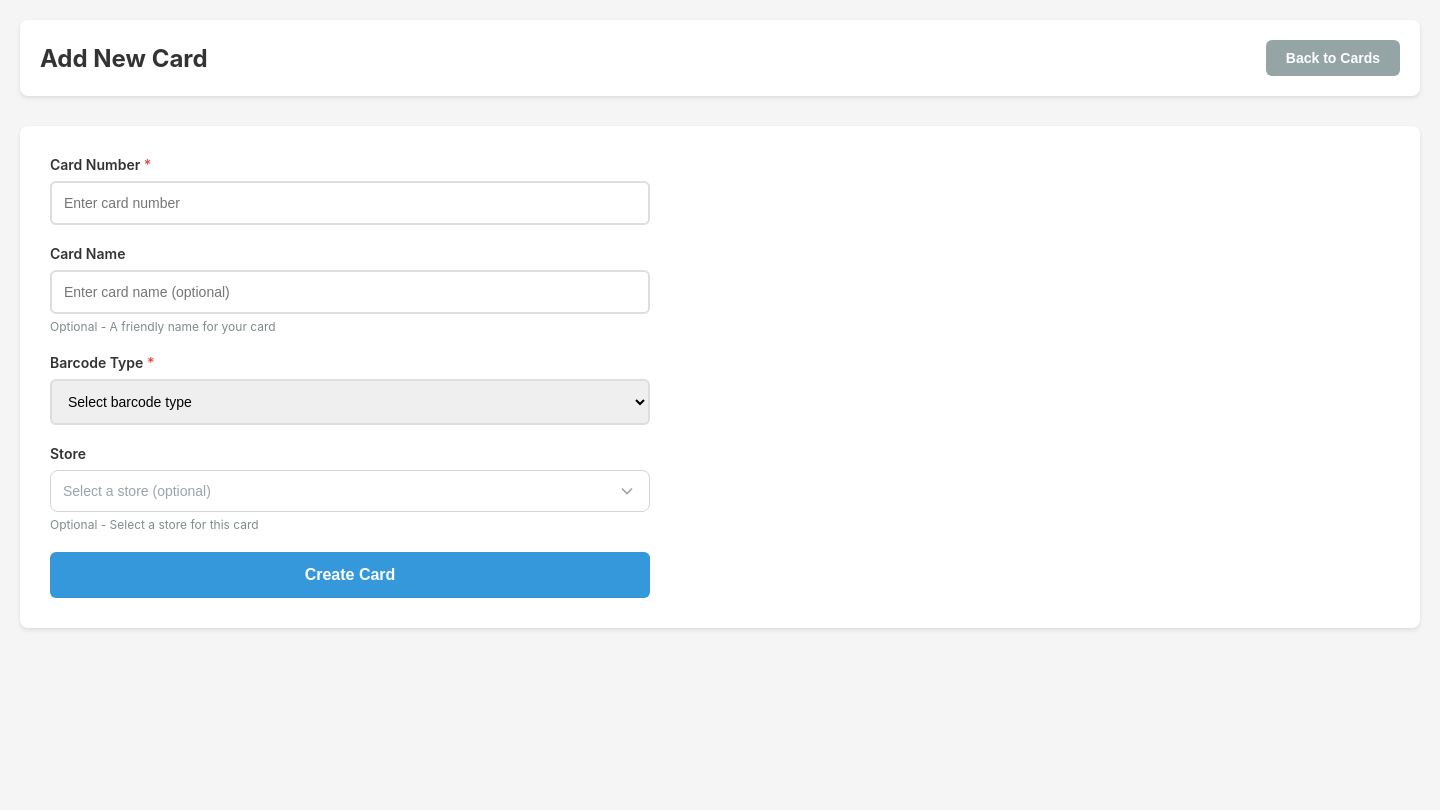
Test: CreateCardView - US-3.1: Create New Card › Barcode Preview › should show preview when both card number and barcode type are provided
Type "1234567" into the field with id "cardNumber" at (350, 203), box [50, 181, 650, 225]
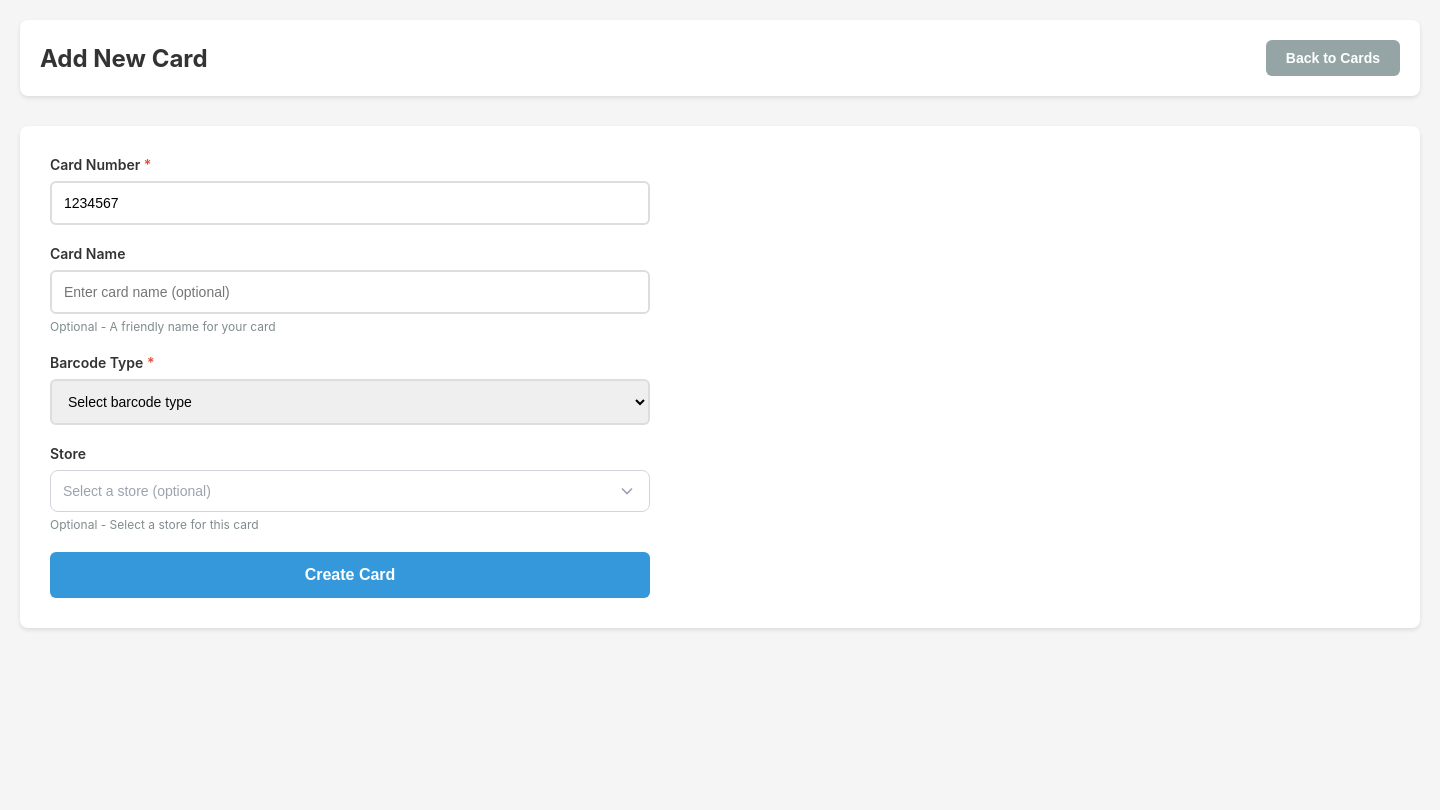
Select "EAN8 (7-8 digits)" in the dropdown with id "barcodeType" at (350, 402), box [50, 379, 650, 425]
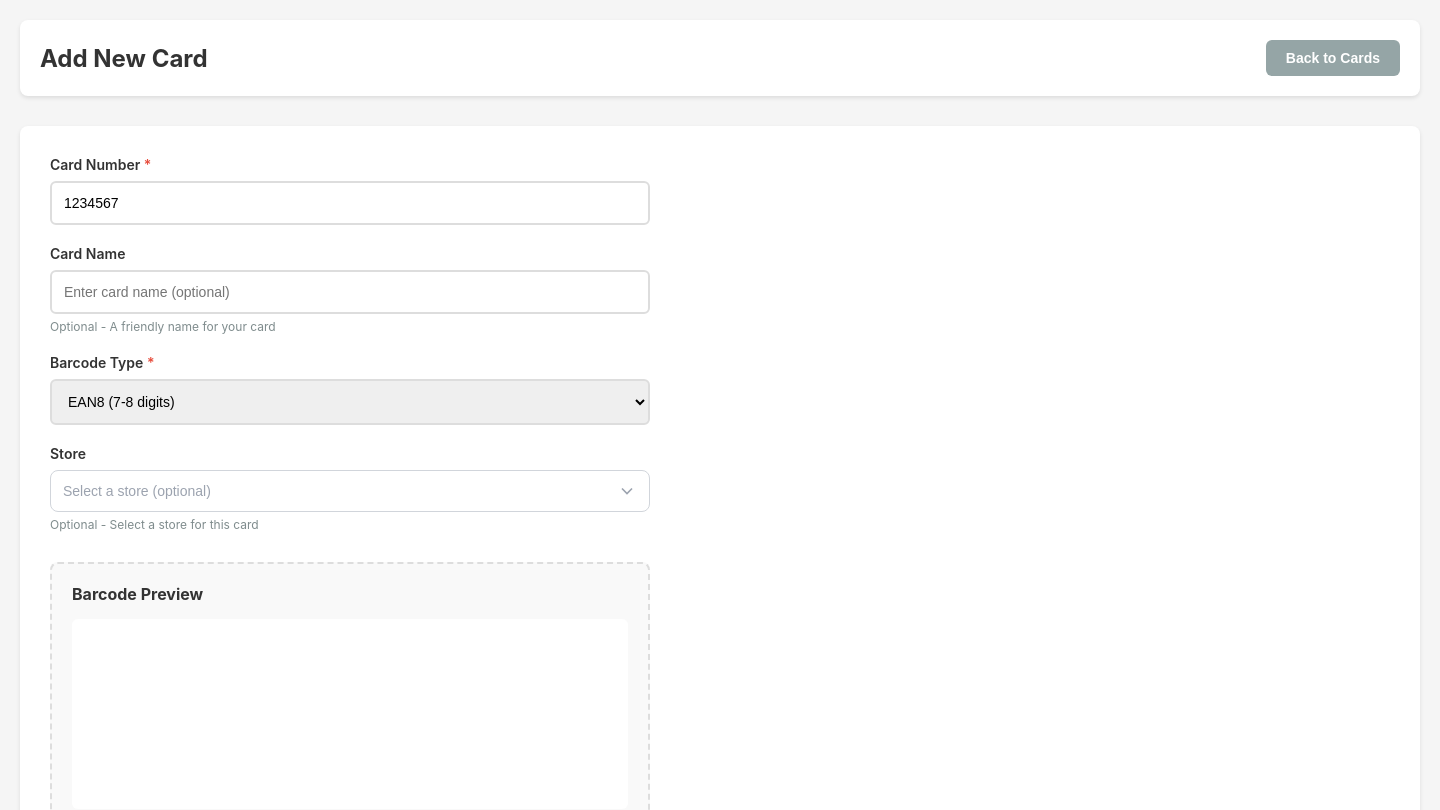
Check: the heading "Barcode Preview" is shown, box [72, 584, 203, 604]
